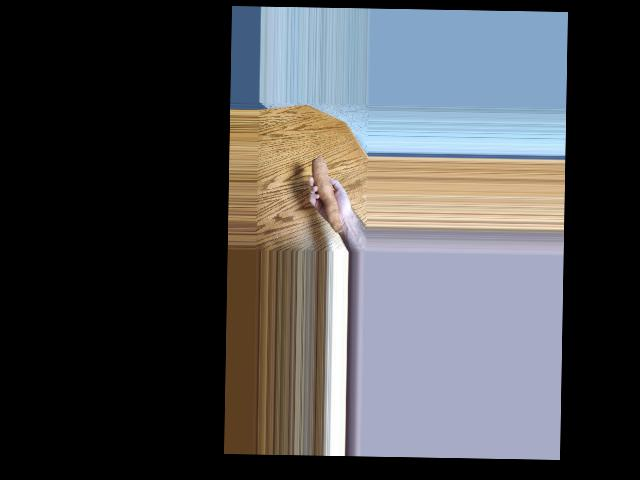sweet_potato: (306, 145, 340, 223)
